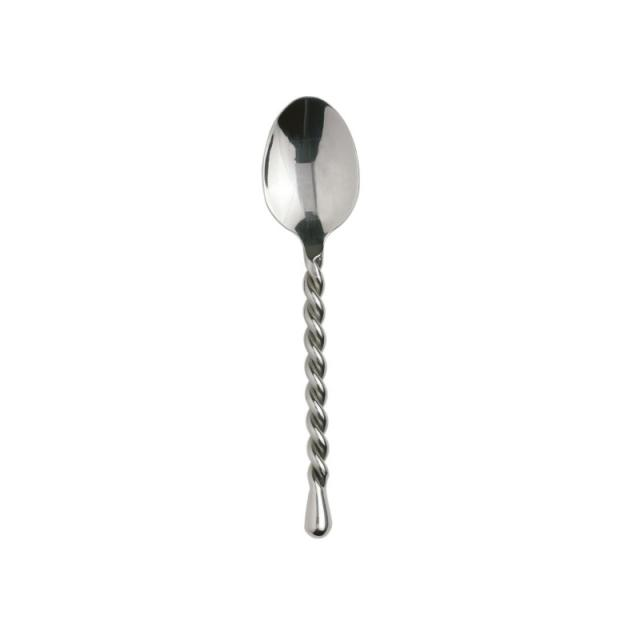spoon: (228, 75, 381, 541)
